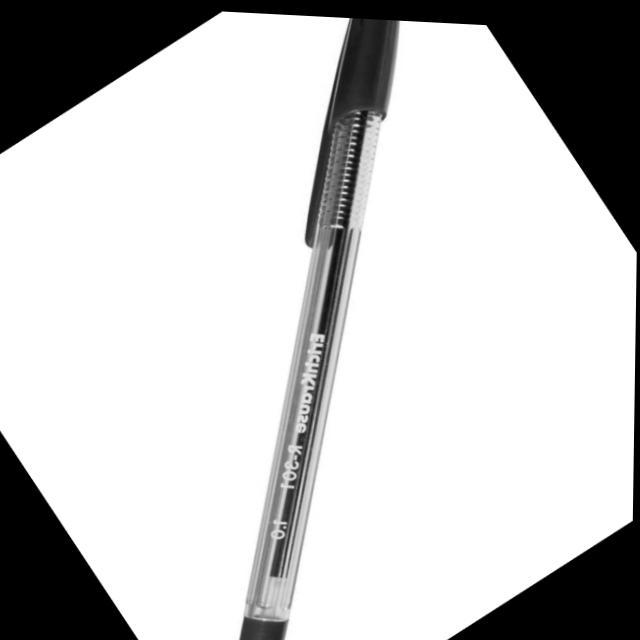pencil: (230, 11, 418, 640)
